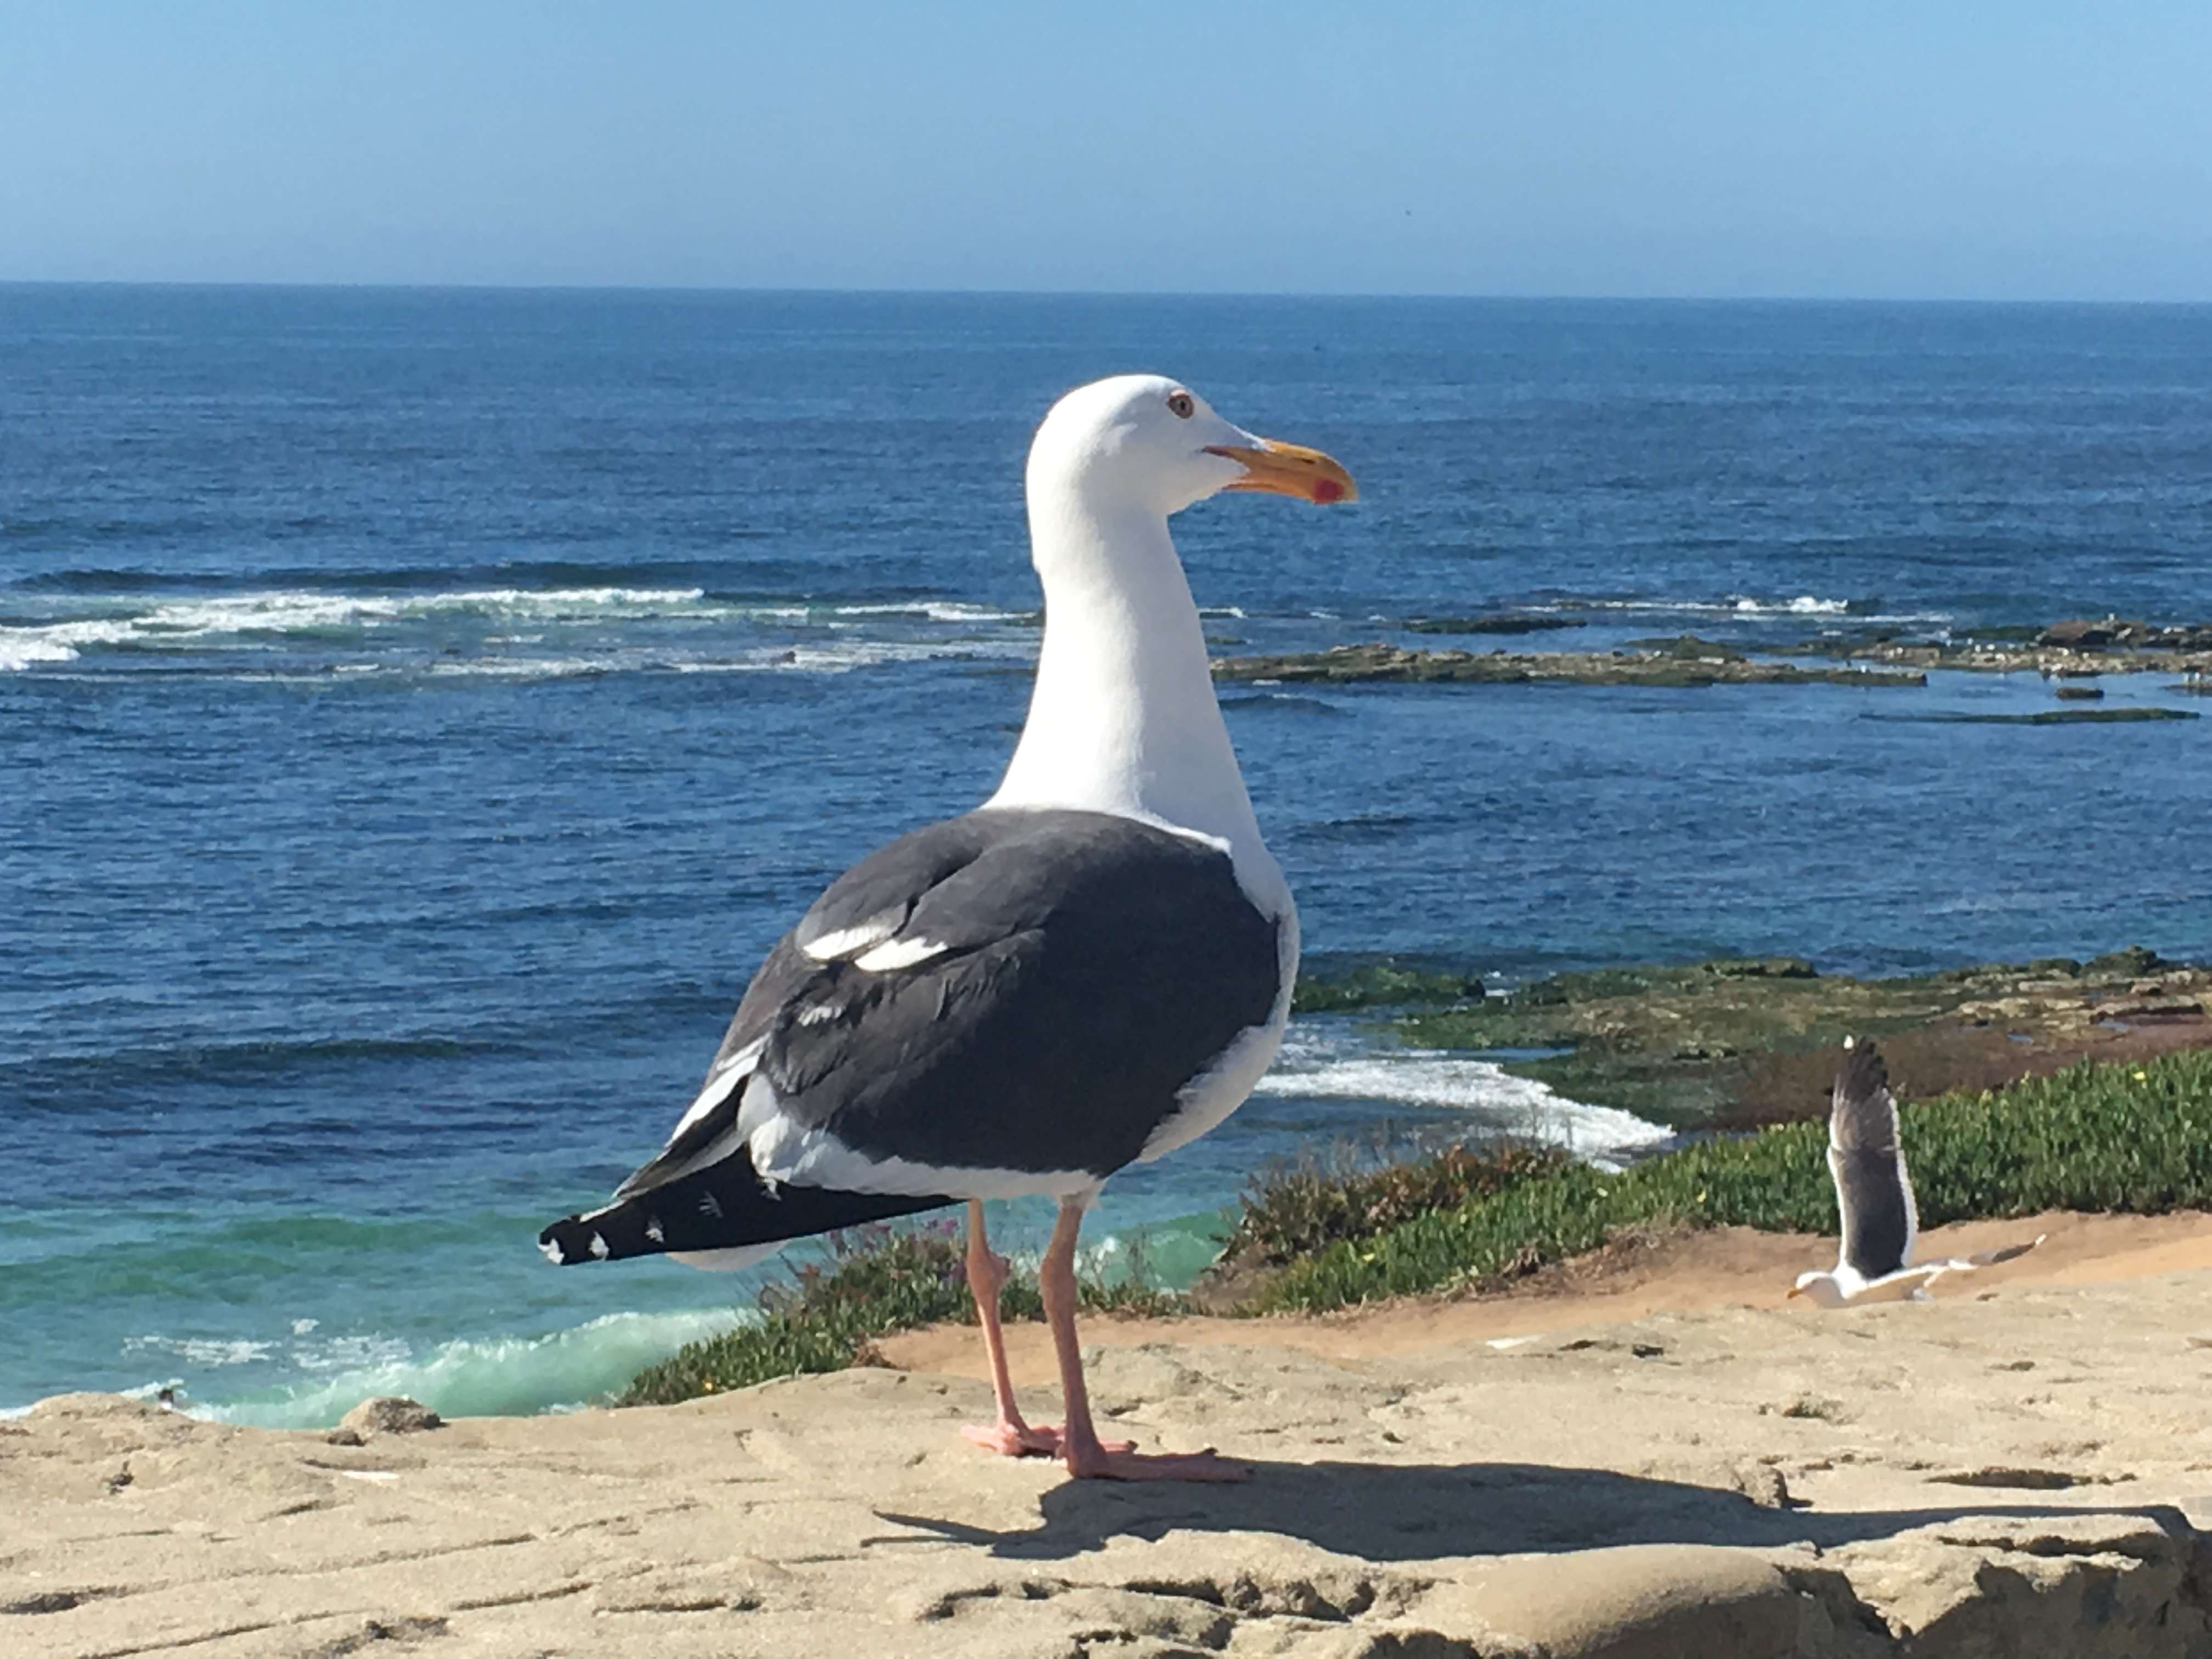Obstacle: (523, 272, 1355, 1504), (1338, 1473, 2184, 1652), (1808, 1030, 1935, 1307)
